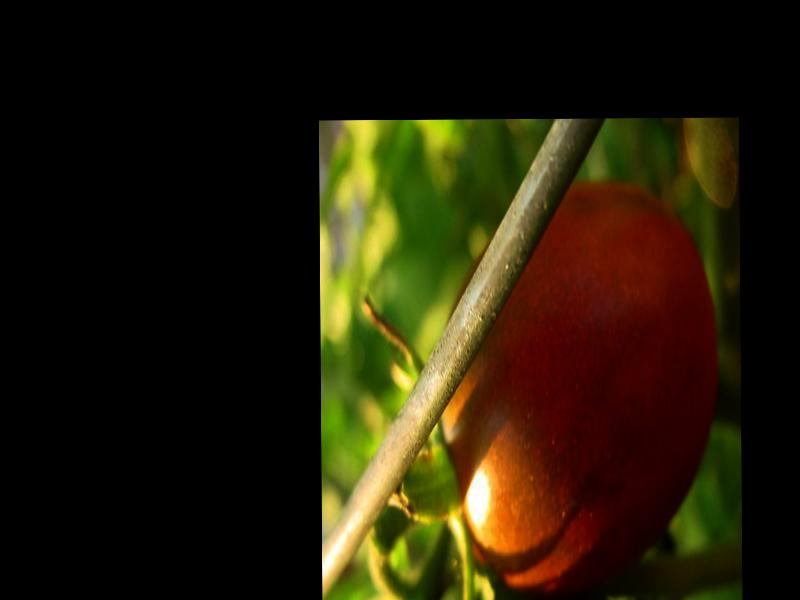Tomato: (440, 187, 718, 592)
